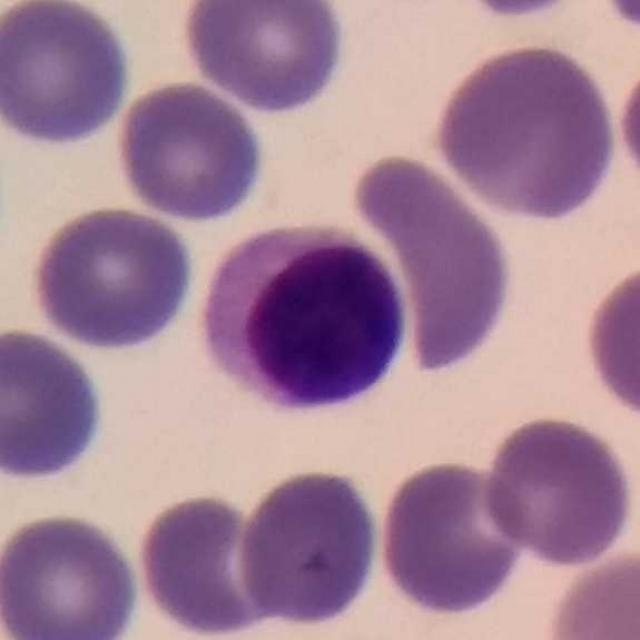Lymphocyte: (184, 212, 415, 422)
RBC: (346, 147, 519, 378), (429, 39, 622, 225), (26, 201, 199, 354), (233, 464, 385, 632), (374, 456, 531, 618), (478, 412, 636, 569), (112, 77, 268, 225), (132, 490, 284, 639), (0, 0, 136, 151), (177, 0, 352, 117), (0, 507, 143, 640), (0, 323, 110, 487), (580, 256, 640, 426), (543, 547, 640, 640), (614, 52, 640, 198), (453, 0, 582, 24), (601, 0, 640, 38)
